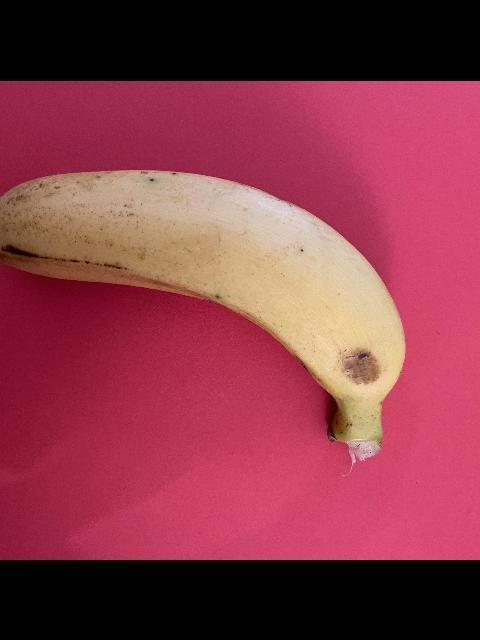banana: (0, 168, 408, 460)
